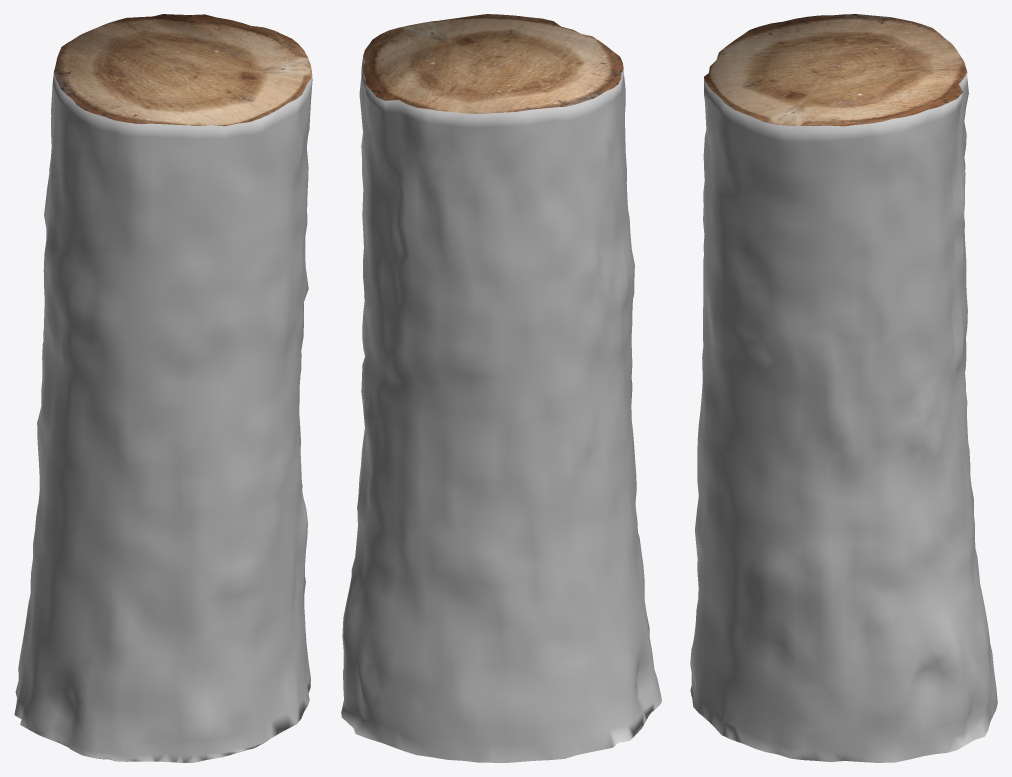
The model's file is log.fbx.
3 renders of one model, left to right at view 1: azimuth 30°, elevation 25°; view 2: azimuth 150°, elevation 25°; view 3: azimuth 270°, elevation 25°, orthographic.
Visible parts, largest first — view 1: Object; view 2: Object; view 3: Object.
Boxes of the visible parts, x1,y1,x2,y2 form: Object: [14, 14, 312, 762]; Object: [341, 14, 661, 762]; Object: [690, 14, 997, 762].
Size of the model in its own units: 72.51 by 165 by 71.69.
